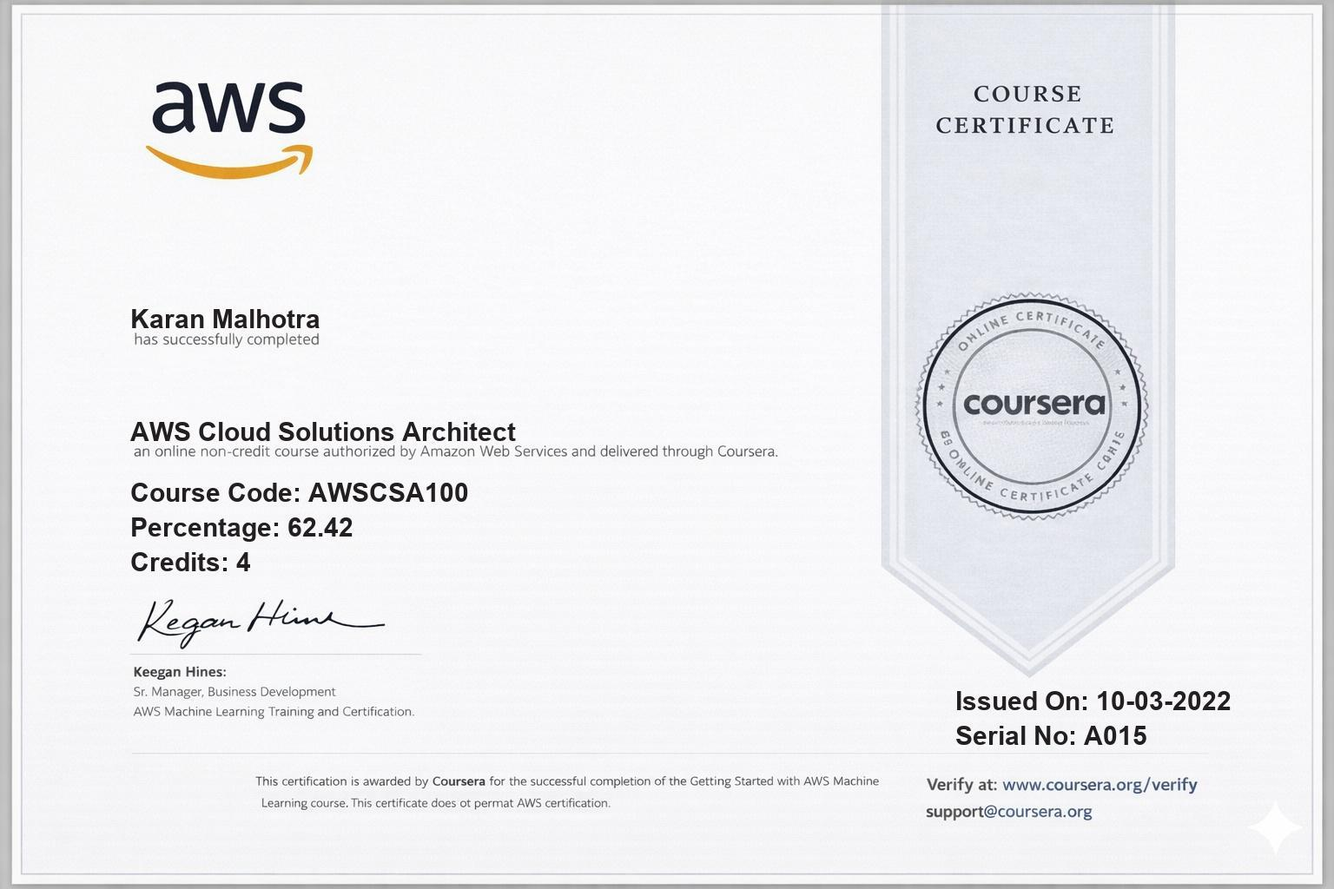Course Code: (305, 471, 487, 512)
Course Name: (120, 410, 524, 447)
Credits: (233, 546, 266, 578)
Issued On: (1093, 679, 1244, 723)
Percentage: (281, 508, 363, 550)
Serial No: (1081, 720, 1158, 760)
Student Name: (123, 297, 328, 337)
